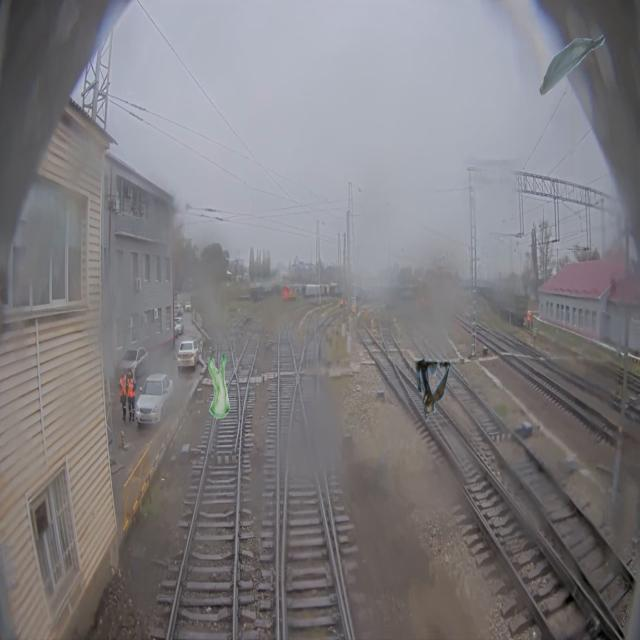floating object: (538, 32, 605, 96), (414, 358, 452, 422), (208, 354, 230, 418)
